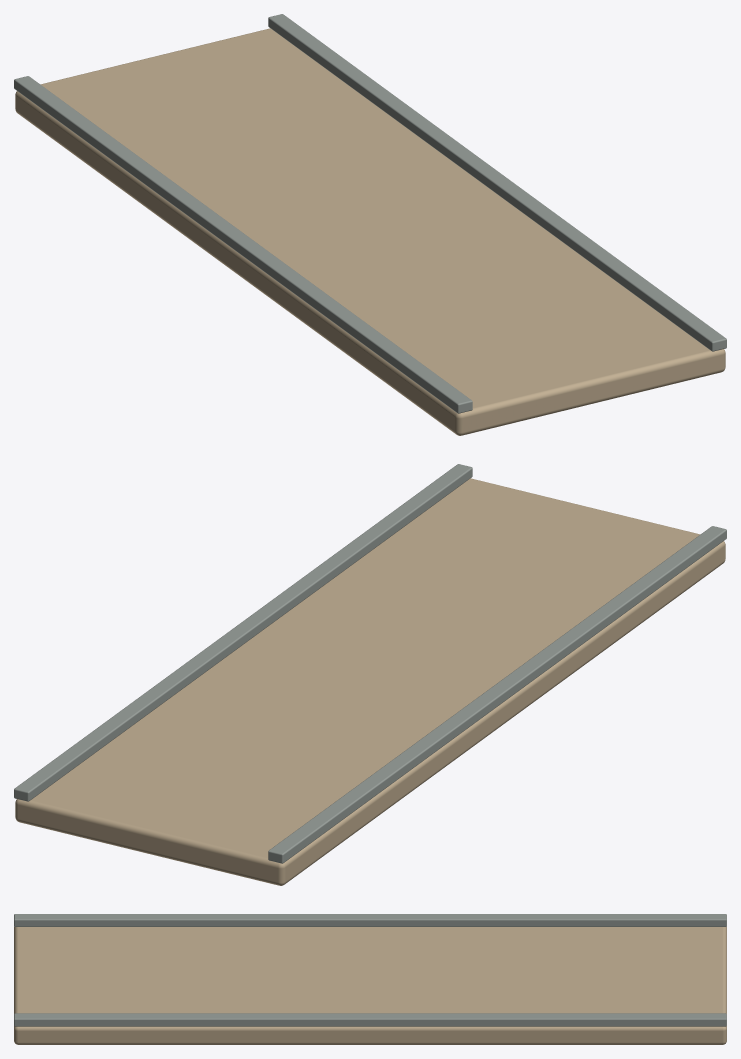
The model's file is canal-boats-and-lock-operations-canal-boats-and-lock-o-21409791__31635.glb.
3 renders of one model, top to bottom at view 1: azimuth 30°, elevation 25°; view 2: azimuth 150°, elevation 25°; view 3: azimuth 270°, elevation 25°, orthographic. The views are drawn at different scales.
Visible parts, largest first — view 1: canal-boats-and-lock-operations-towpath-straight; view 2: canal-boats-and-lock-operations-towpath-straight; view 3: canal-boats-and-lock-operations-towpath-straight.
Boxes of the visible parts, bbox=[...] form: canal-boats-and-lock-operations-towpath-straight: bbox=[14, 14, 726, 435]; canal-boats-and-lock-operations-towpath-straight: bbox=[14, 464, 726, 885]; canal-boats-and-lock-operations-towpath-straight: bbox=[14, 914, 726, 1044].
Size of the model in its own units: 1.4 by 0.17 by 4.
